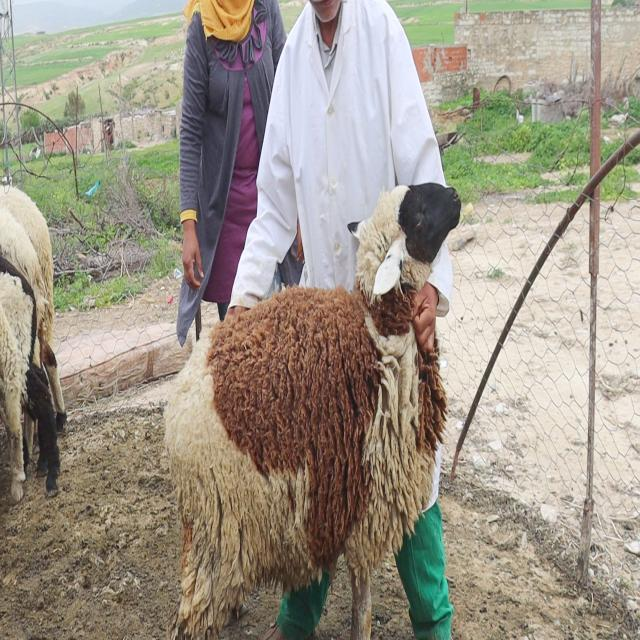Score_5: (164, 183, 461, 639)
